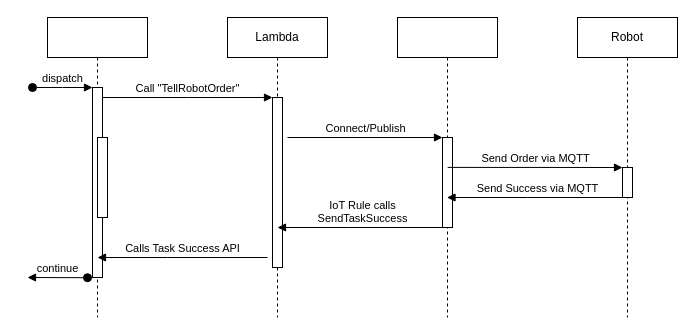
Image size: 695x335. Some labels were removed from this diagram. The box of each missing label's shape, as (x1, y1, x2, y2) in pixels:
AWS IoT Core: (396, 16, 498, 318)
Step Function: (46, 16, 148, 318)
